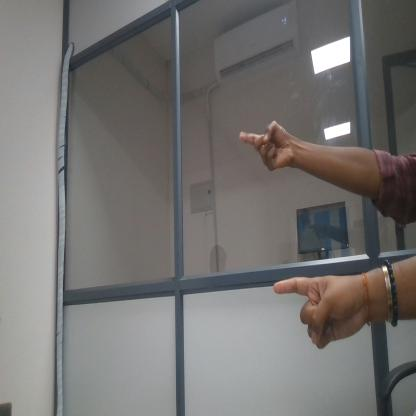Right: (264, 266, 362, 361), (238, 112, 293, 172)
